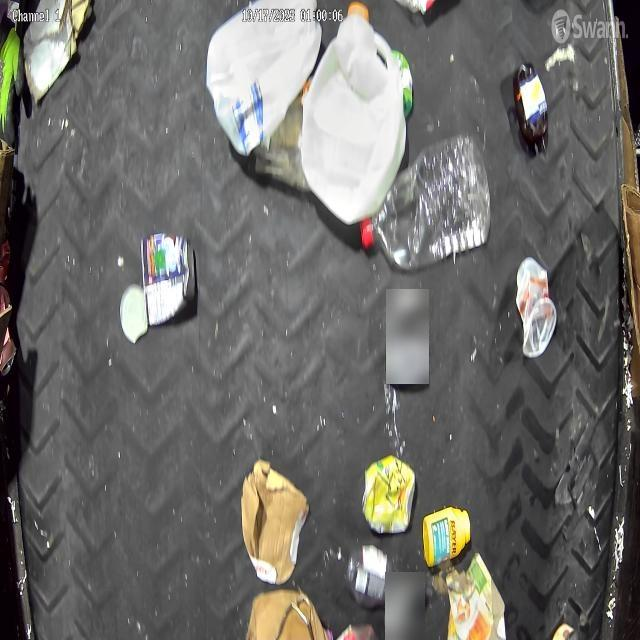milk_jug: (302, 9, 408, 226), (202, 2, 320, 156)
plastic_bottle: (361, 134, 492, 268)
